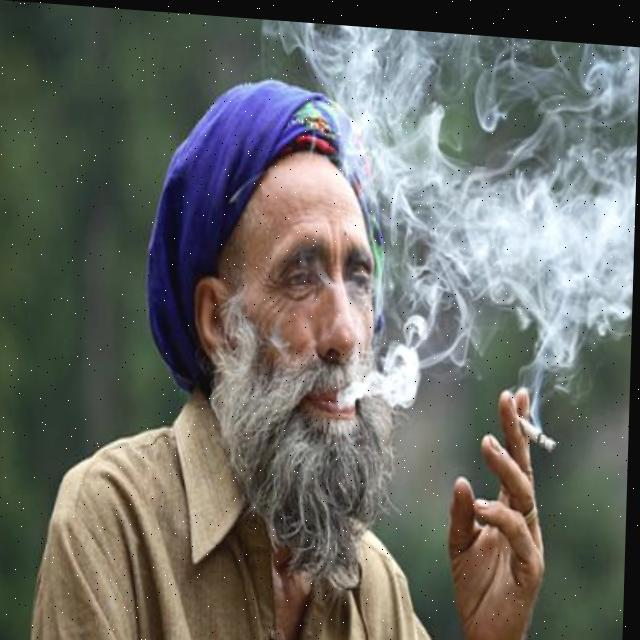cigarette: (517, 406, 561, 448)
